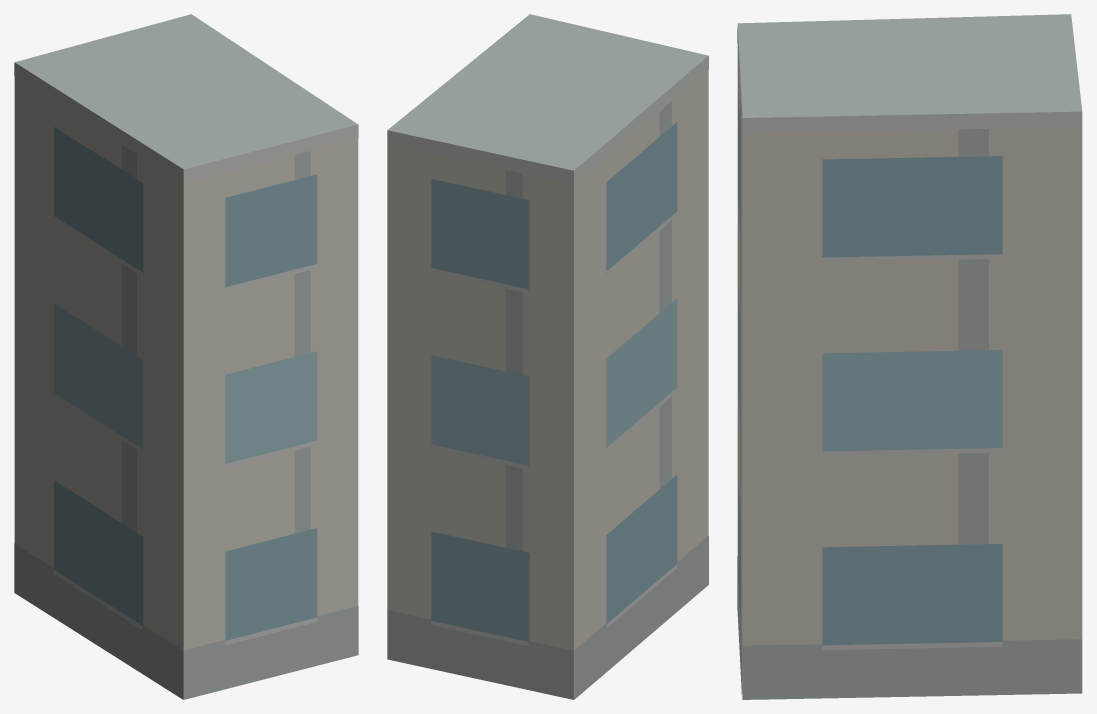
The model's file is survey-upis-32634285.glb.
3 views of the same model, side by side, from view 1: azimuth 30°, elevation 25°; view 2: azimuth 150°, elevation 25°; view 3: azimuth 270°, elevation 25° (orthographic). The views are drawn at different scales.
Visible parts, largest first — view 1: survey-upis-32634285.tmp; view 2: survey-upis-32634285.tmp; view 3: survey-upis-32634285.tmp.
Part boxes in pixels (bbox=[...]): survey-upis-32634285.tmp: bbox=[14, 14, 358, 699]; survey-upis-32634285.tmp: bbox=[387, 14, 708, 699]; survey-upis-32634285.tmp: bbox=[737, 14, 1082, 699].
Size of the model in its own units: 3.52 by 9.15 by 4.93.
